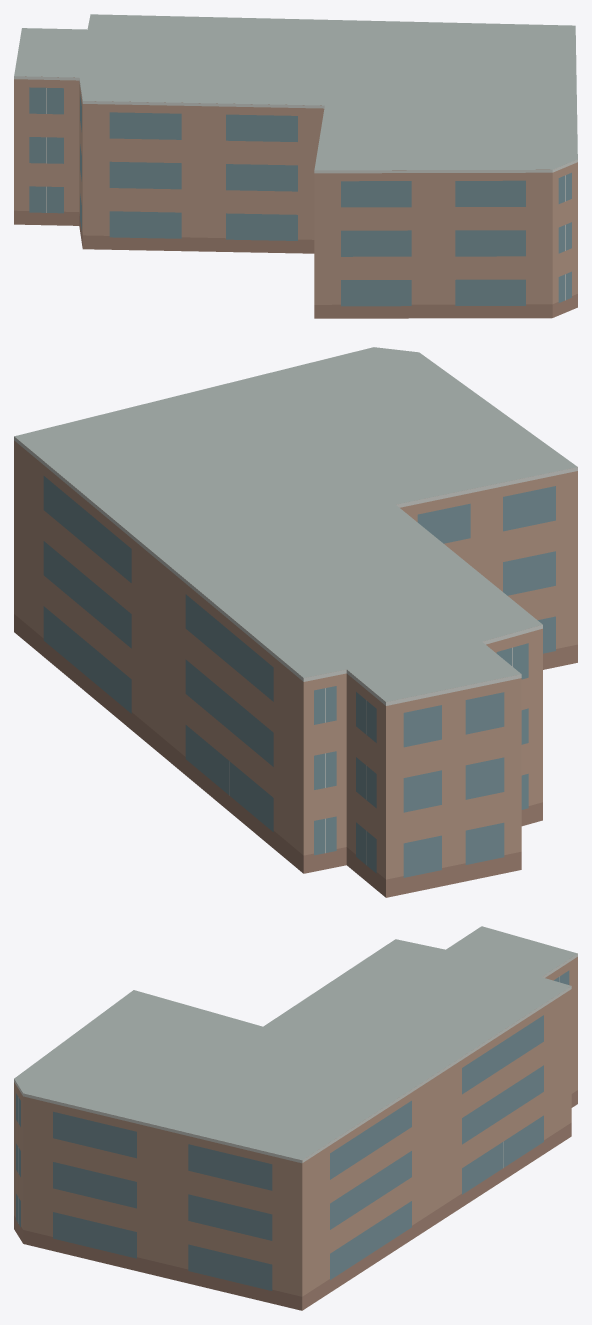
Rendered from survey-upis-32480545.glb.
The picture shows the model from 3 angles, top to bottom: view 1: azimuth 30°, elevation 25°; view 2: azimuth 150°, elevation 25°; view 3: azimuth 270°, elevation 25°; orthographic projection. The views are drawn at different scales.
Parts seen in each view (by area): view 1: survey-upis-32480545.tmp; view 2: survey-upis-32480545.tmp; view 3: survey-upis-32480545.tmp.
Part boxes in pixels (bbox=[...]): survey-upis-32480545.tmp: bbox=[14, 14, 577, 318]; survey-upis-32480545.tmp: bbox=[14, 347, 577, 897]; survey-upis-32480545.tmp: bbox=[14, 926, 577, 1310].
Bounding box in the file's own units: 40.4 × 12.1 × 41.1.
